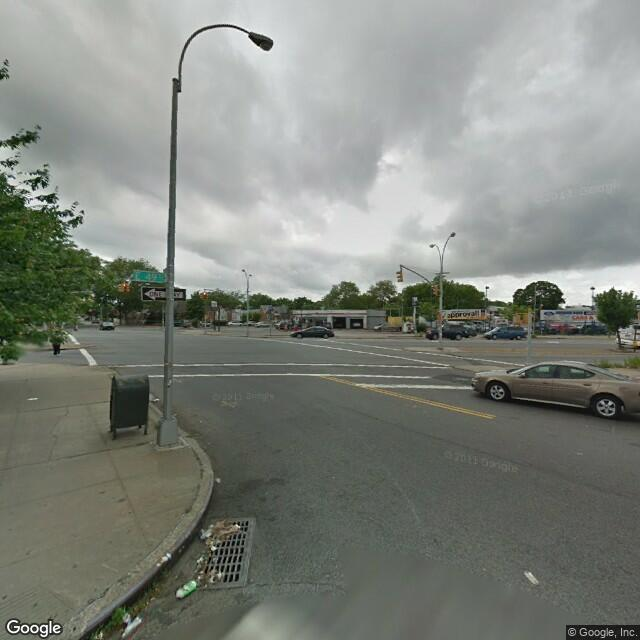litter: (175, 579, 198, 597), (123, 616, 143, 630), (199, 529, 214, 539), (28, 397, 39, 401), (215, 475, 221, 481), (199, 556, 204, 559)
